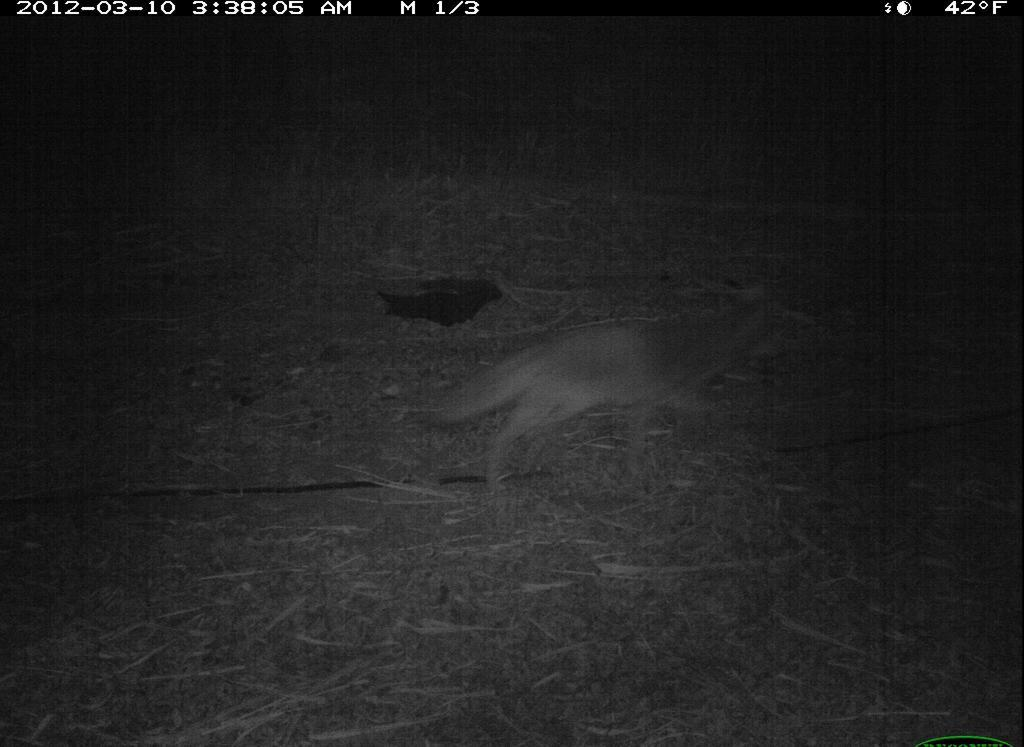coyote: (428, 291, 794, 491)
